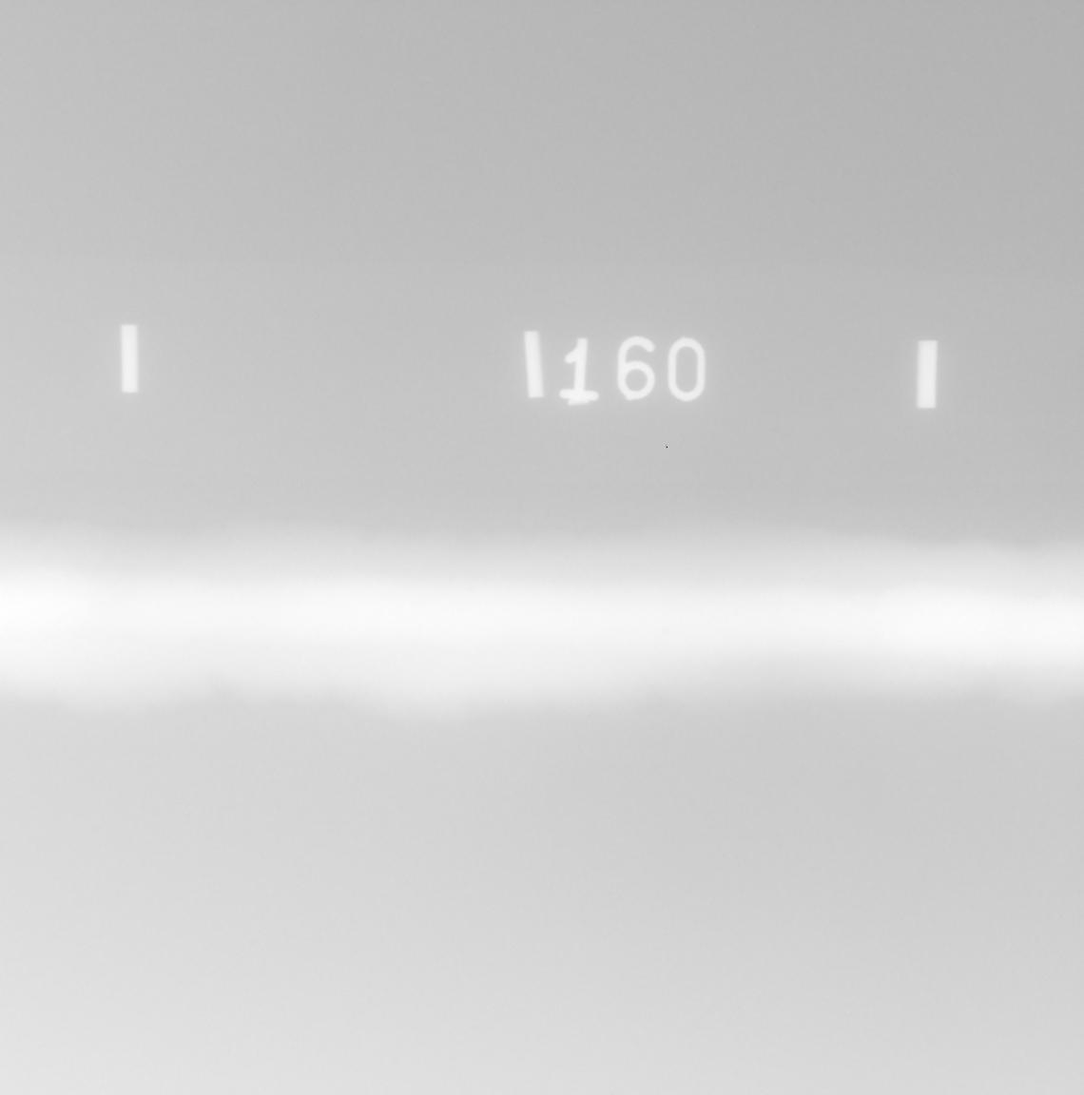Pore/Porosity: (662, 628, 668, 633), (469, 587, 474, 593)
